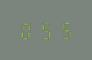five: (55, 19, 72, 39), (37, 20, 54, 39)
zero: (18, 20, 35, 40)
